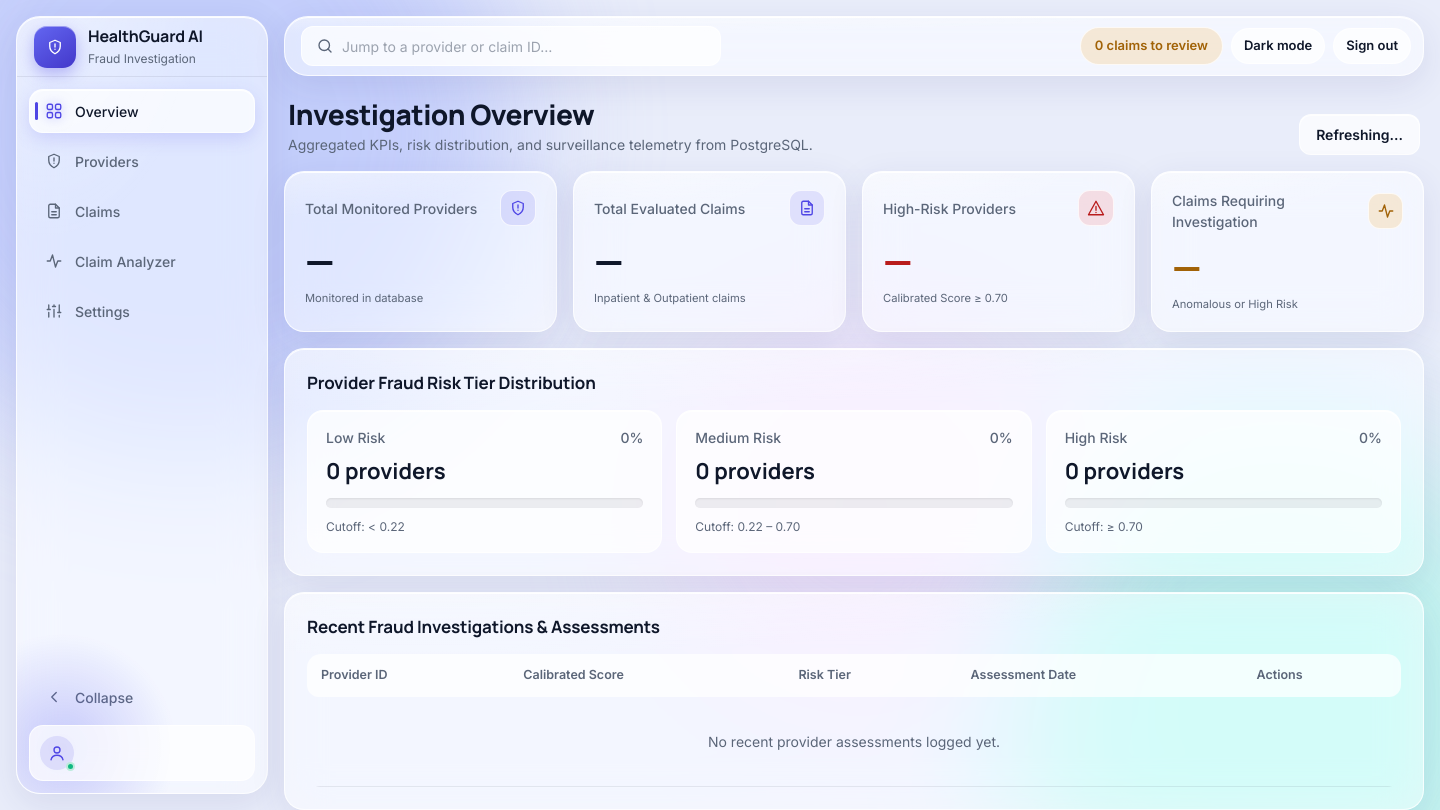
Scenario: HealthGuard AI Frontend Integration Tests › Claim Fraud Analyzer Probability & Risk Tier Validation › conditionally shows Admission/Discharge dates and auto-calculates Length of Stay for Inpatient claims
The width and height of the screenshot is (1440, 810).
Click the button "Claim Analyzer".
click(142, 261)  # box left=29, top=239, right=255, bottom=283
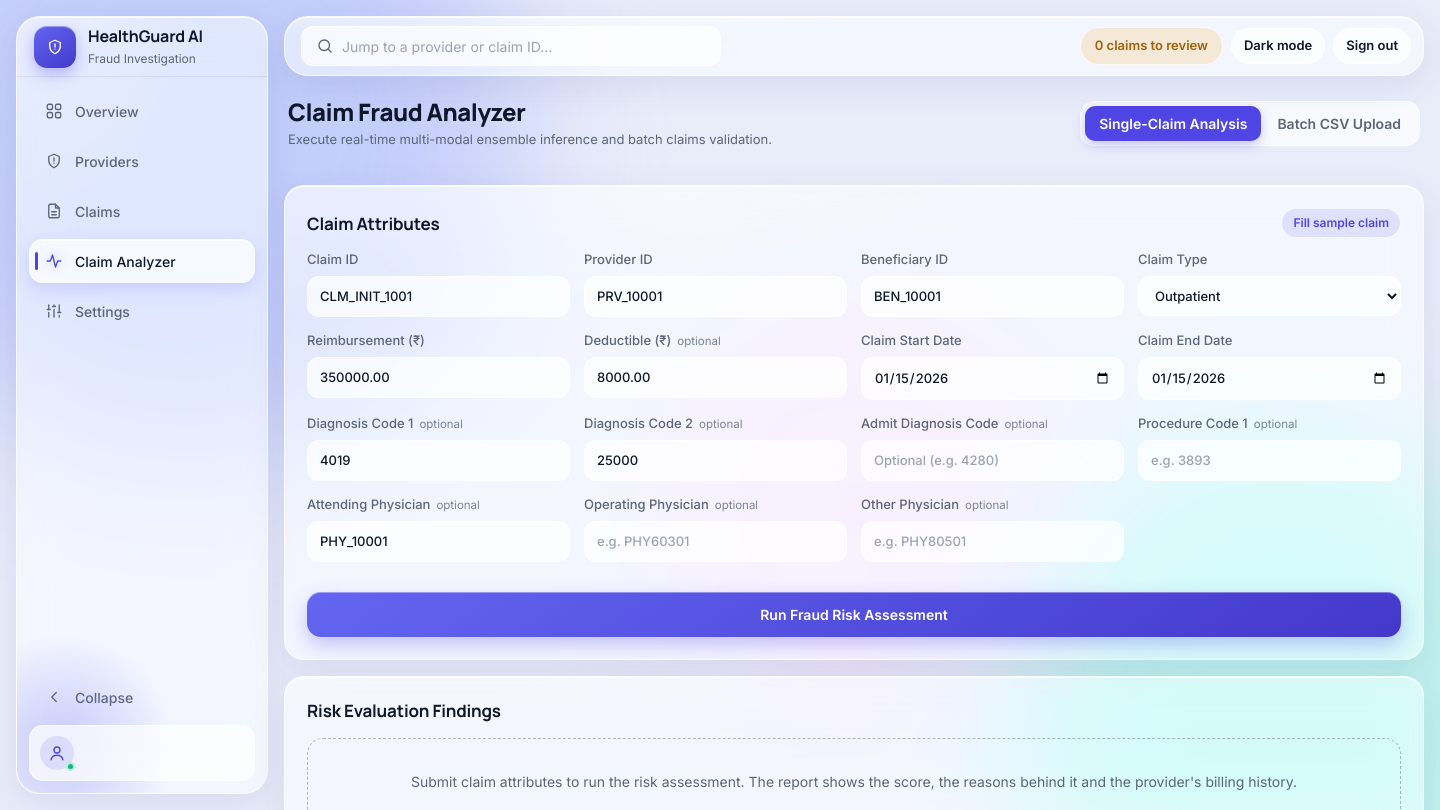
Now the text "Procedure Code 1" is shown, box left=1138, top=415, right=1248, bottom=431
Now the text "Operating Physician" is shown, box left=584, top=496, right=709, bottom=512
Now the text "Other Physician" is shown, box left=861, top=496, right=959, bottom=512
# Switch to Inpatient
Select "Inpatient" in the dropdown at (1270, 296), box left=1138, top=276, right=1401, bottom=316
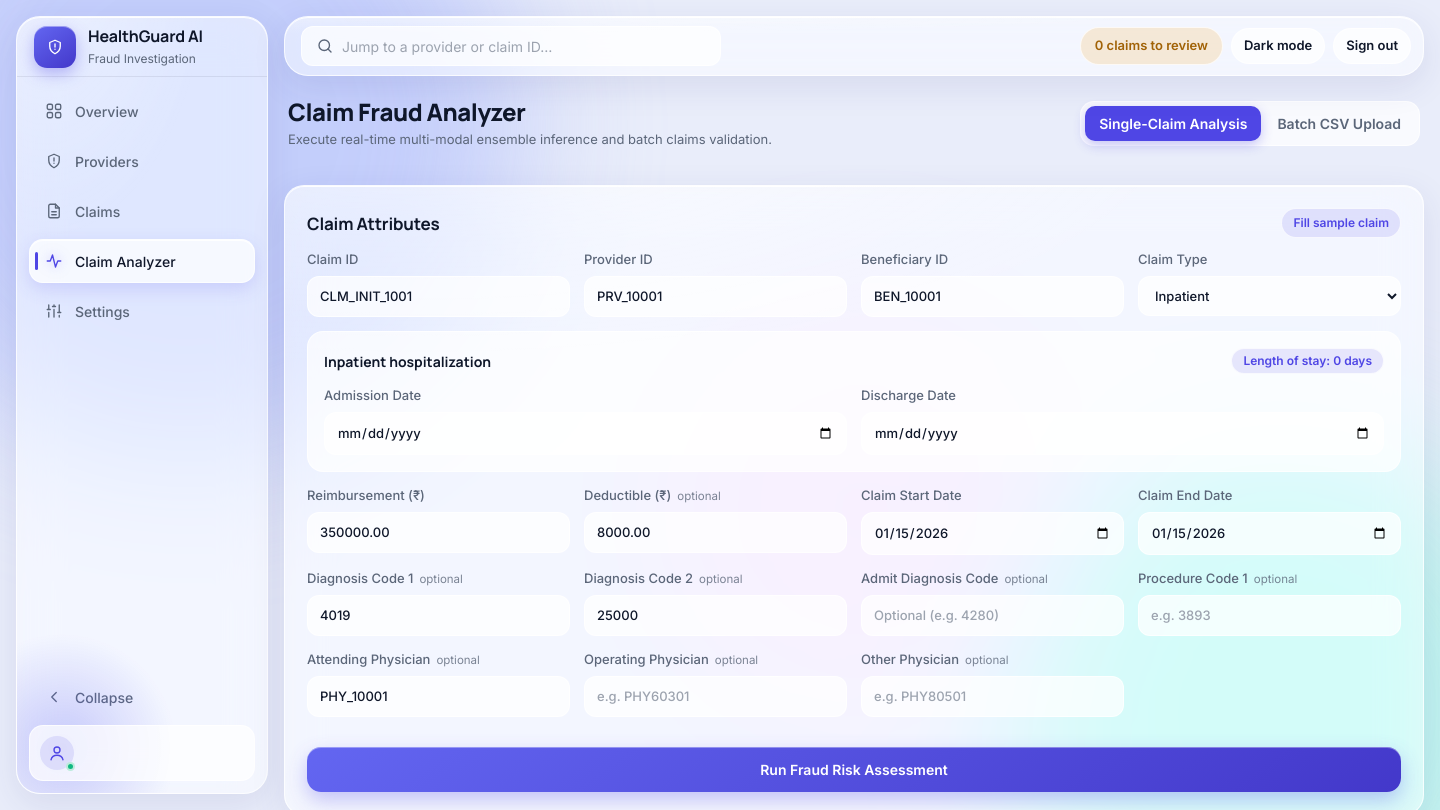
Now the text "Admission Date" is shown, box left=324, top=387, right=421, bottom=403
Now the text "Discharge Date" is shown, box left=861, top=387, right=956, bottom=403
Now the text "Length of stay: 0 days" is shown, box left=1231, top=348, right=1384, bottom=374
# Fill Admission and Discharge dates
Type "2009-04-10" into the date field below "Admission Date".
click(586, 433); type("2009-04-10")  # box left=324, top=412, right=847, bottom=455
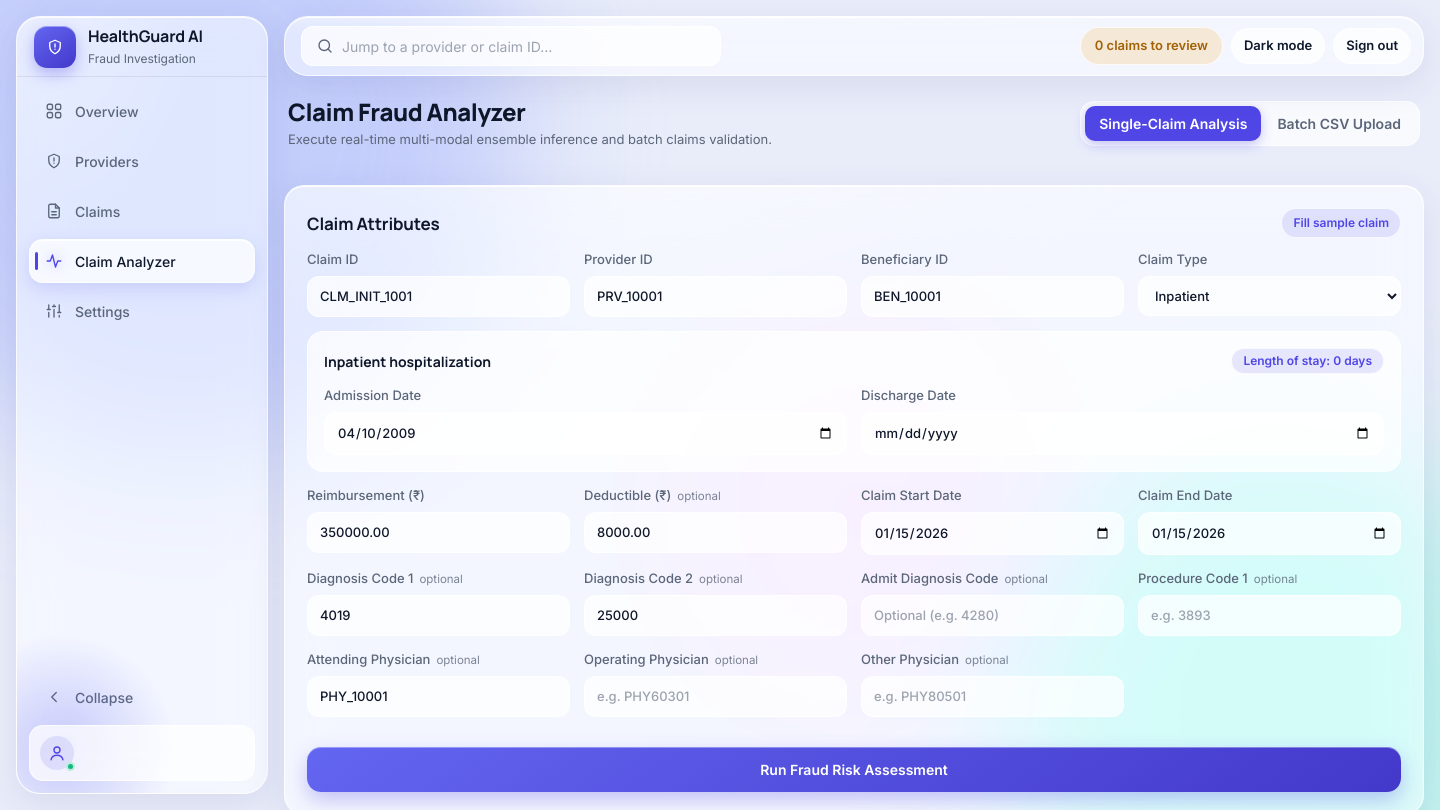
Type "2009-04-17" into the date field below "Discharge Date".
click(1122, 433); type("2009-04-17")  # box left=861, top=412, right=1384, bottom=455
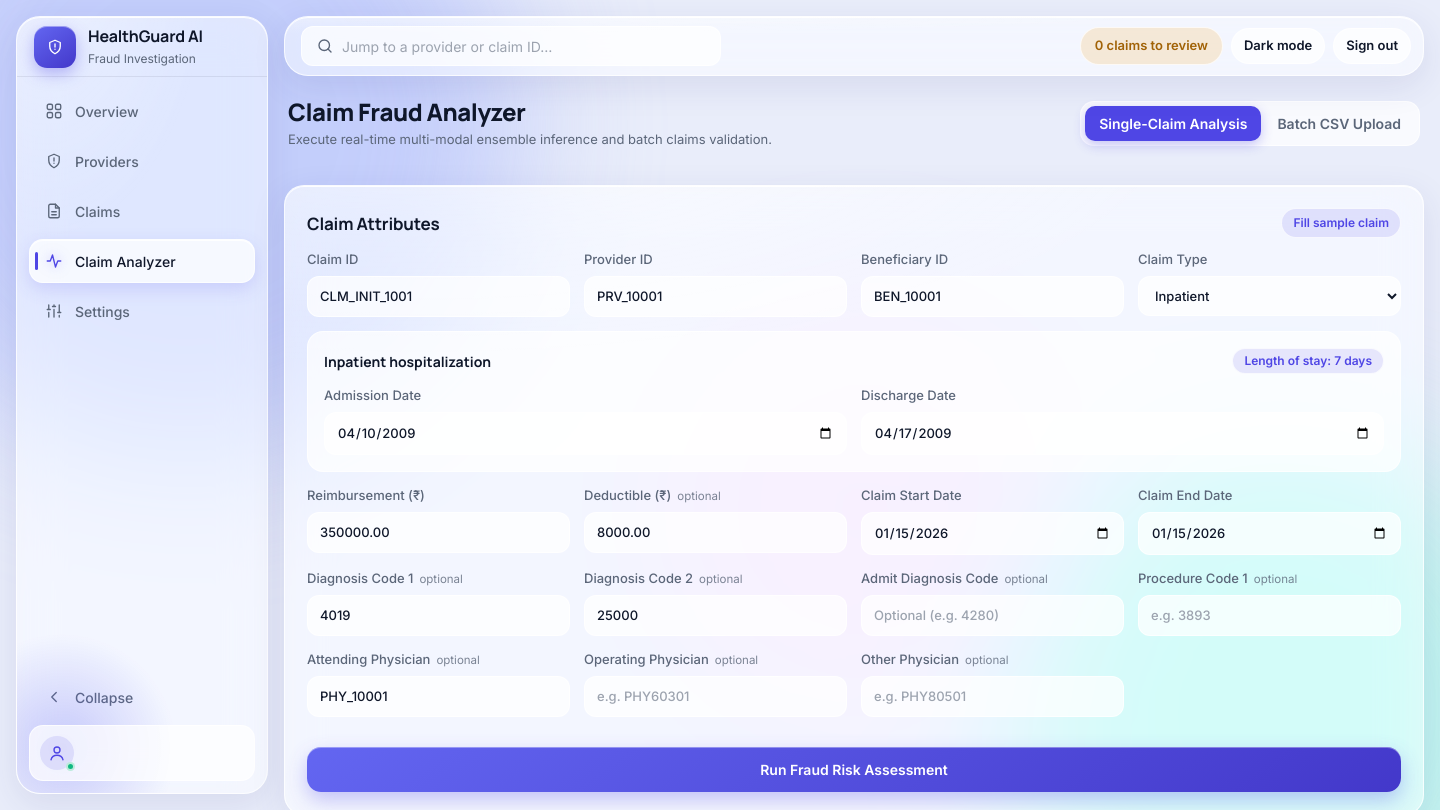
Now the text "Length of stay: 7 days" is shown, box left=1232, top=348, right=1384, bottom=374
Select "Outpatient" in the dropdown at (1270, 296), box left=1138, top=276, right=1401, bottom=316
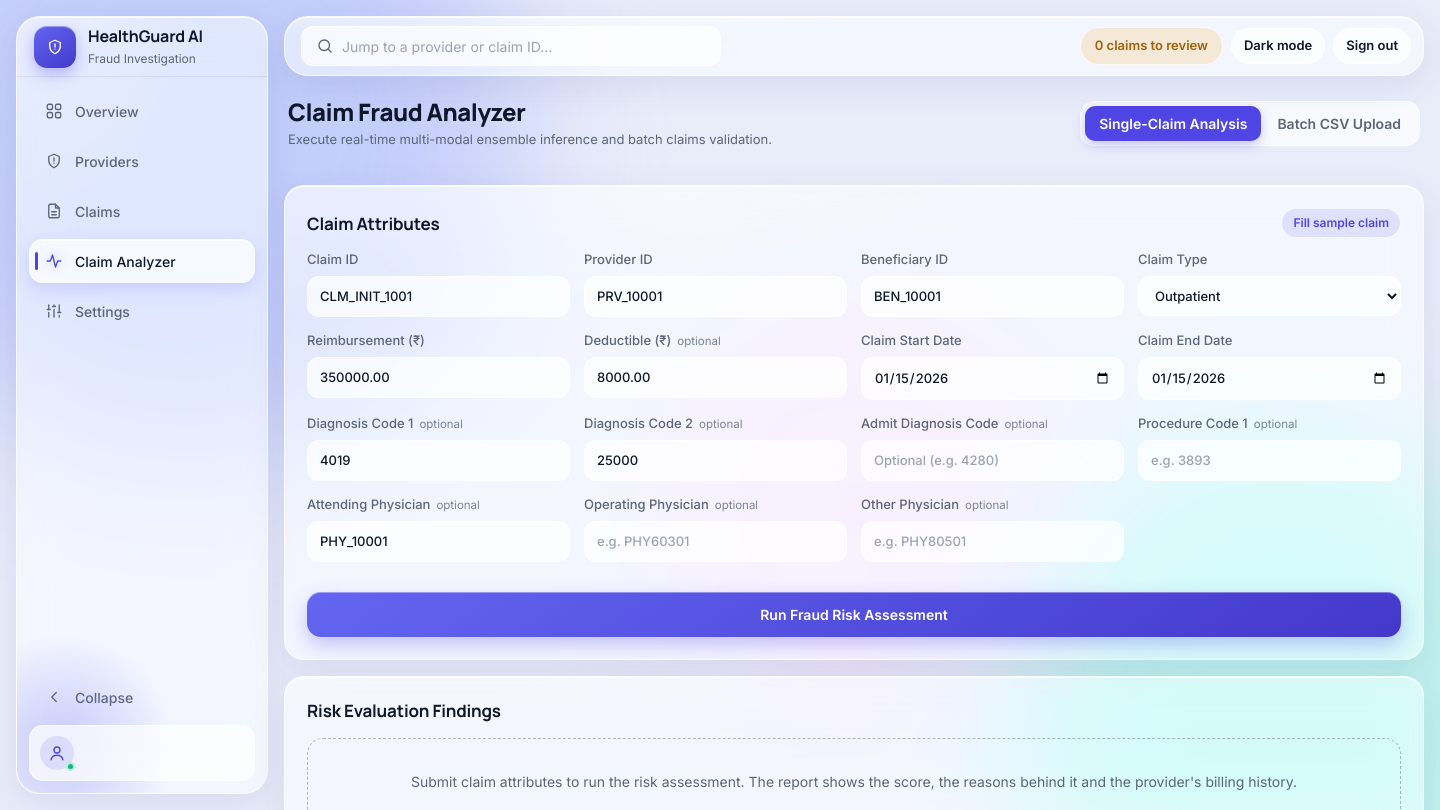
Now the text "Admission Date" is gone
Now the text "Discharge Date" is gone
